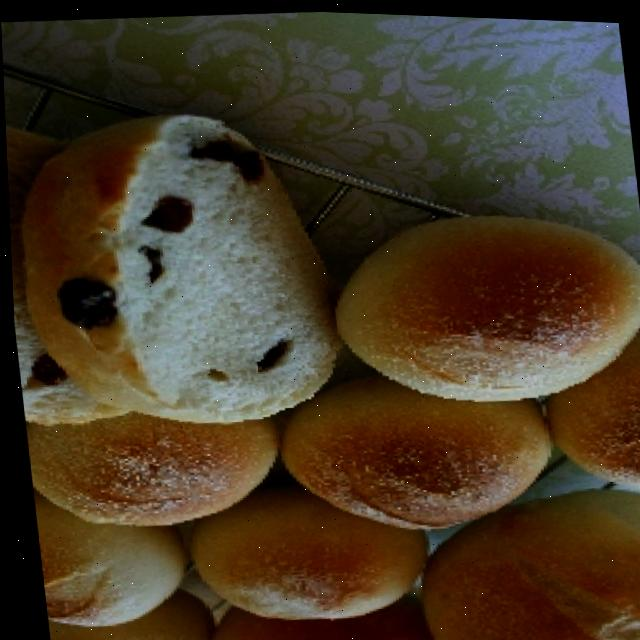面包点心: (2, 64, 640, 640)
